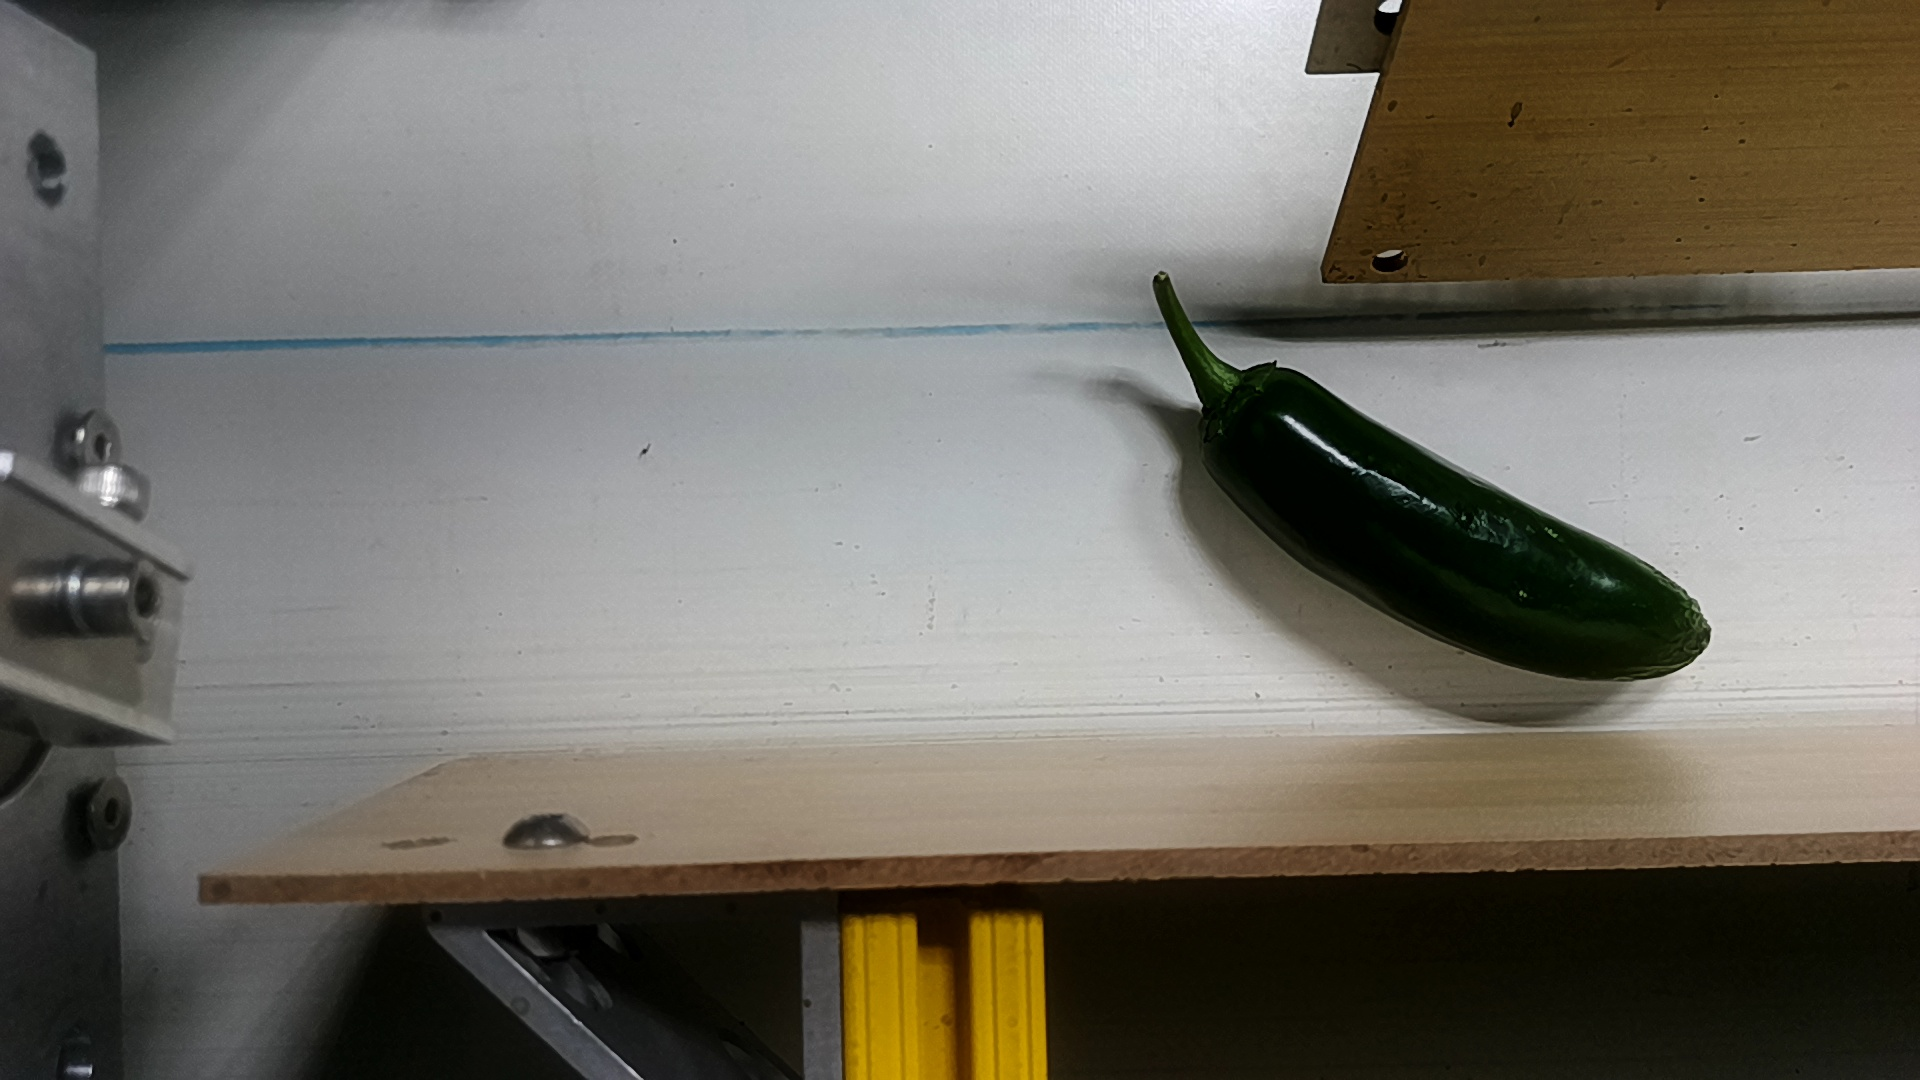Cut Point: (1189, 336, 1298, 491)
